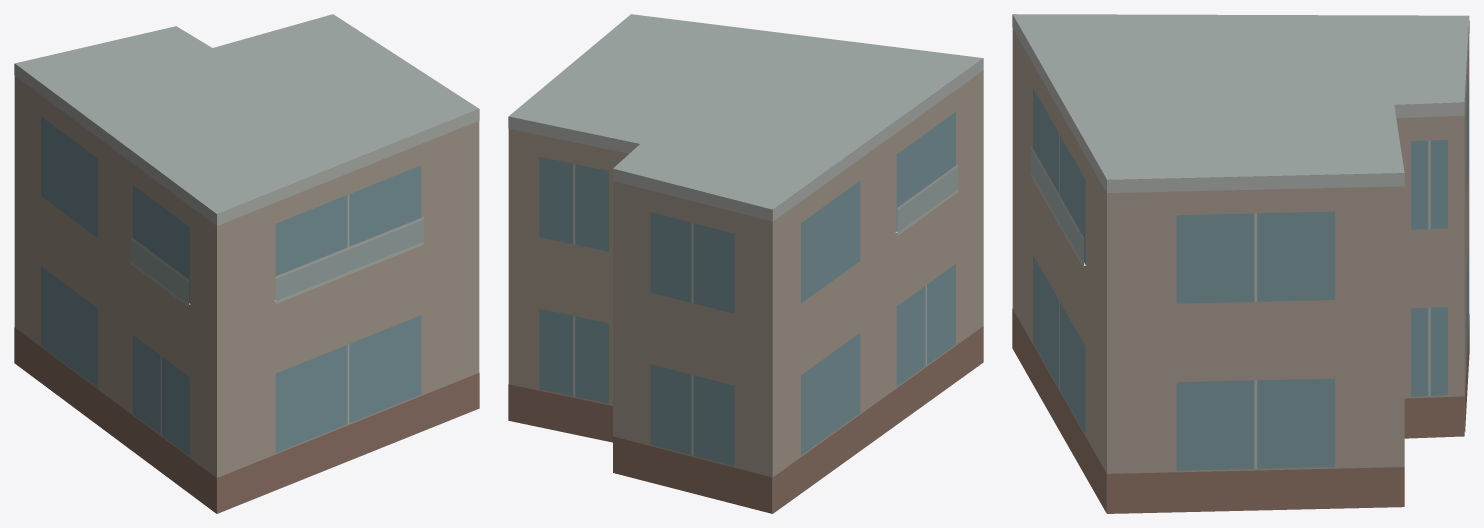
File: survey-upis-32467511.glb
3 views of the same model, side by side, from view 1: azimuth 30°, elevation 25°; view 2: azimuth 150°, elevation 25°; view 3: azimuth 270°, elevation 25° (orthographic). The views are drawn at different scales.
Visible parts, largest first — view 1: survey-upis-32467511.tmp; view 2: survey-upis-32467511.tmp; view 3: survey-upis-32467511.tmp.
Boxes of the visible parts, x1=… form: survey-upis-32467511.tmp: x1=14, y1=14, x2=479, y2=513; survey-upis-32467511.tmp: x1=508, y1=14, x2=983, y2=513; survey-upis-32467511.tmp: x1=1012, y1=14, x2=1469, y2=513.
Bounding box in the file's own units: 6.53 × 6.1 × 7.57.
